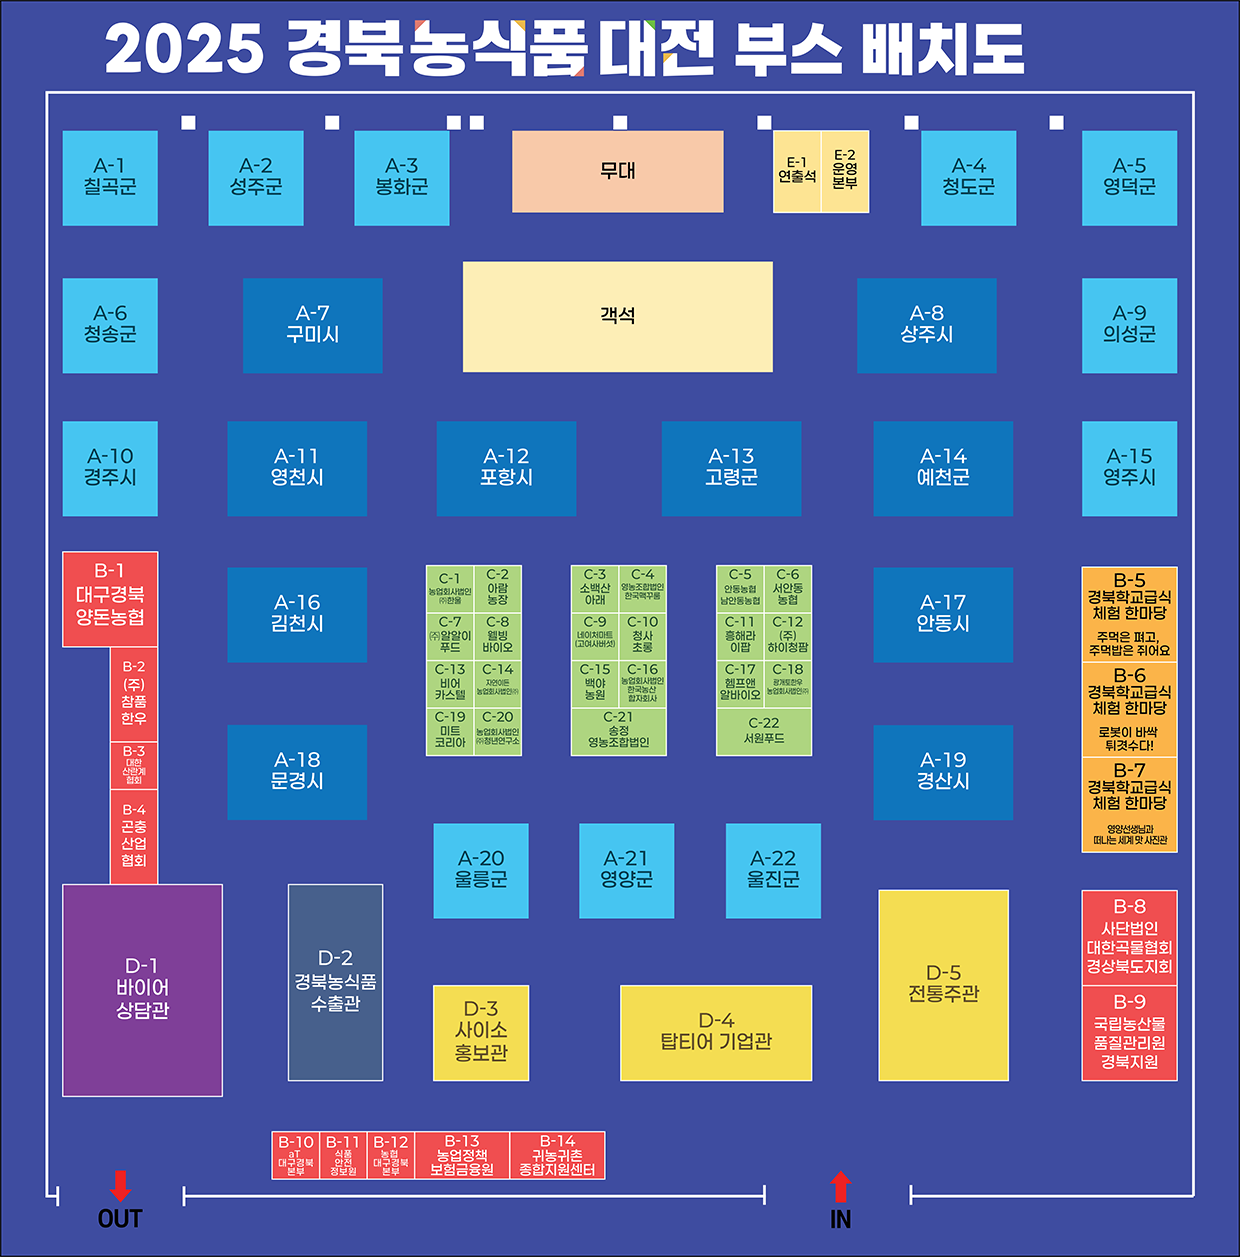booth: (68, 887, 220, 1099), (880, 891, 1008, 1083), (290, 883, 384, 1081), (625, 987, 812, 1081), (226, 565, 366, 663), (240, 277, 384, 371), (660, 421, 801, 517), (226, 424, 365, 519), (436, 421, 573, 516), (858, 279, 996, 371), (228, 727, 362, 821), (875, 723, 1012, 815), (874, 424, 1009, 516), (874, 569, 1009, 661), (434, 983, 530, 1081), (60, 131, 156, 225), (210, 129, 304, 225), (62, 277, 158, 371), (60, 551, 156, 645), (62, 424, 158, 517), (1083, 276, 1176, 371), (357, 129, 449, 225), (1084, 129, 1174, 227), (584, 821, 675, 915), (434, 823, 523, 917), (728, 821, 818, 915), (1086, 891, 1174, 983), (922, 133, 1012, 223), (1082, 424, 1170, 516), (1082, 567, 1170, 659), (1082, 663, 1170, 755), (1084, 759, 1172, 850), (1084, 989, 1172, 1081), (570, 701, 664, 757), (717, 705, 810, 761), (516, 1133, 604, 1181), (112, 647, 156, 745), (422, 1133, 510, 1181), (114, 797, 156, 887), (368, 1131, 416, 1183), (322, 1131, 370, 1183), (268, 1131, 316, 1183), (718, 565, 764, 613), (717, 609, 762, 657), (714, 659, 760, 707), (764, 561, 810, 609), (766, 611, 812, 659), (766, 657, 812, 705), (430, 567, 472, 617), (476, 567, 518, 617), (430, 615, 472, 665), (476, 613, 518, 663), (478, 661, 520, 711), (434, 659, 476, 709), (428, 703, 470, 753), (476, 709, 518, 759), (578, 565, 620, 615), (622, 563, 664, 613), (622, 607, 664, 657), (573, 609, 615, 659), (572, 659, 614, 709), (622, 657, 664, 707), (116, 747, 156, 791)
boundary: (48, 93, 1190, 1193)
entrance: (768, 1179, 912, 1213)
exit: (70, 1183, 188, 1207)
seating: (462, 263, 770, 369), (774, 131, 820, 209), (828, 129, 870, 211)
stage: (512, 129, 722, 213)
